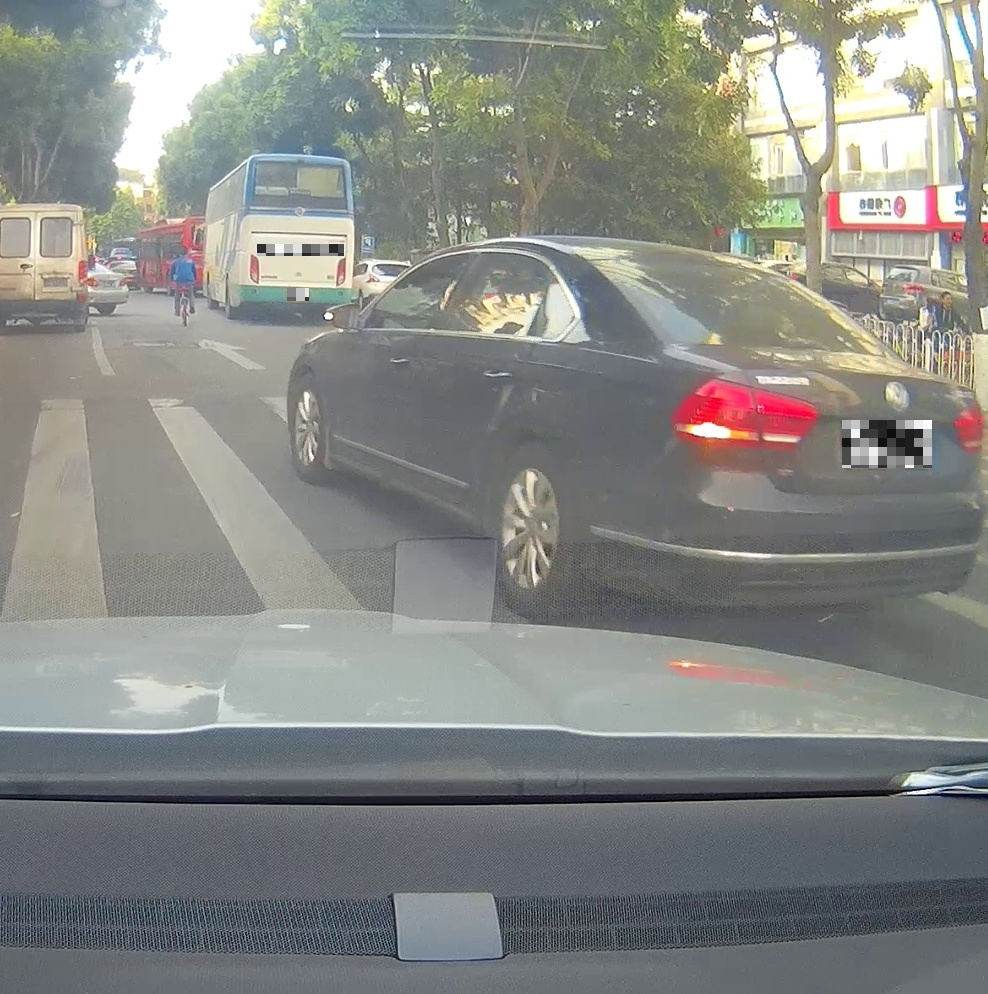L_light: (670, 377, 820, 453), (250, 253, 260, 284)
R_light: (953, 403, 986, 455), (336, 257, 346, 287)
T_light: (678, 260, 734, 270), (289, 188, 312, 195)
day-left: (590, 237, 988, 627)
day-no: (238, 154, 355, 320)
plate_1: (257, 244, 344, 256)
plate_2: (287, 288, 309, 301)
plate_3: (842, 420, 932, 468)
